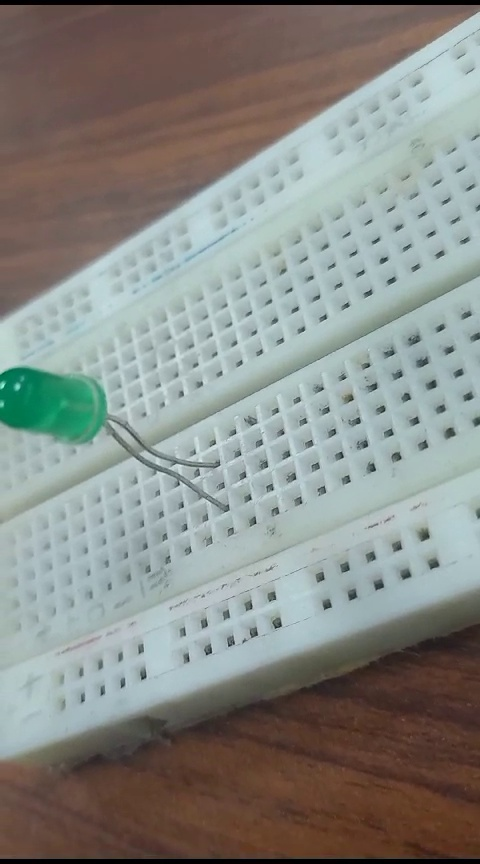LED: (6, 355, 220, 519)
